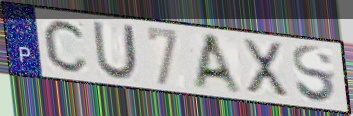7: (146, 24, 182, 88)
A: (190, 32, 246, 97)
C: (42, 17, 91, 75)
S: (290, 44, 339, 107)
U: (90, 20, 140, 82)
X: (240, 36, 291, 101)
